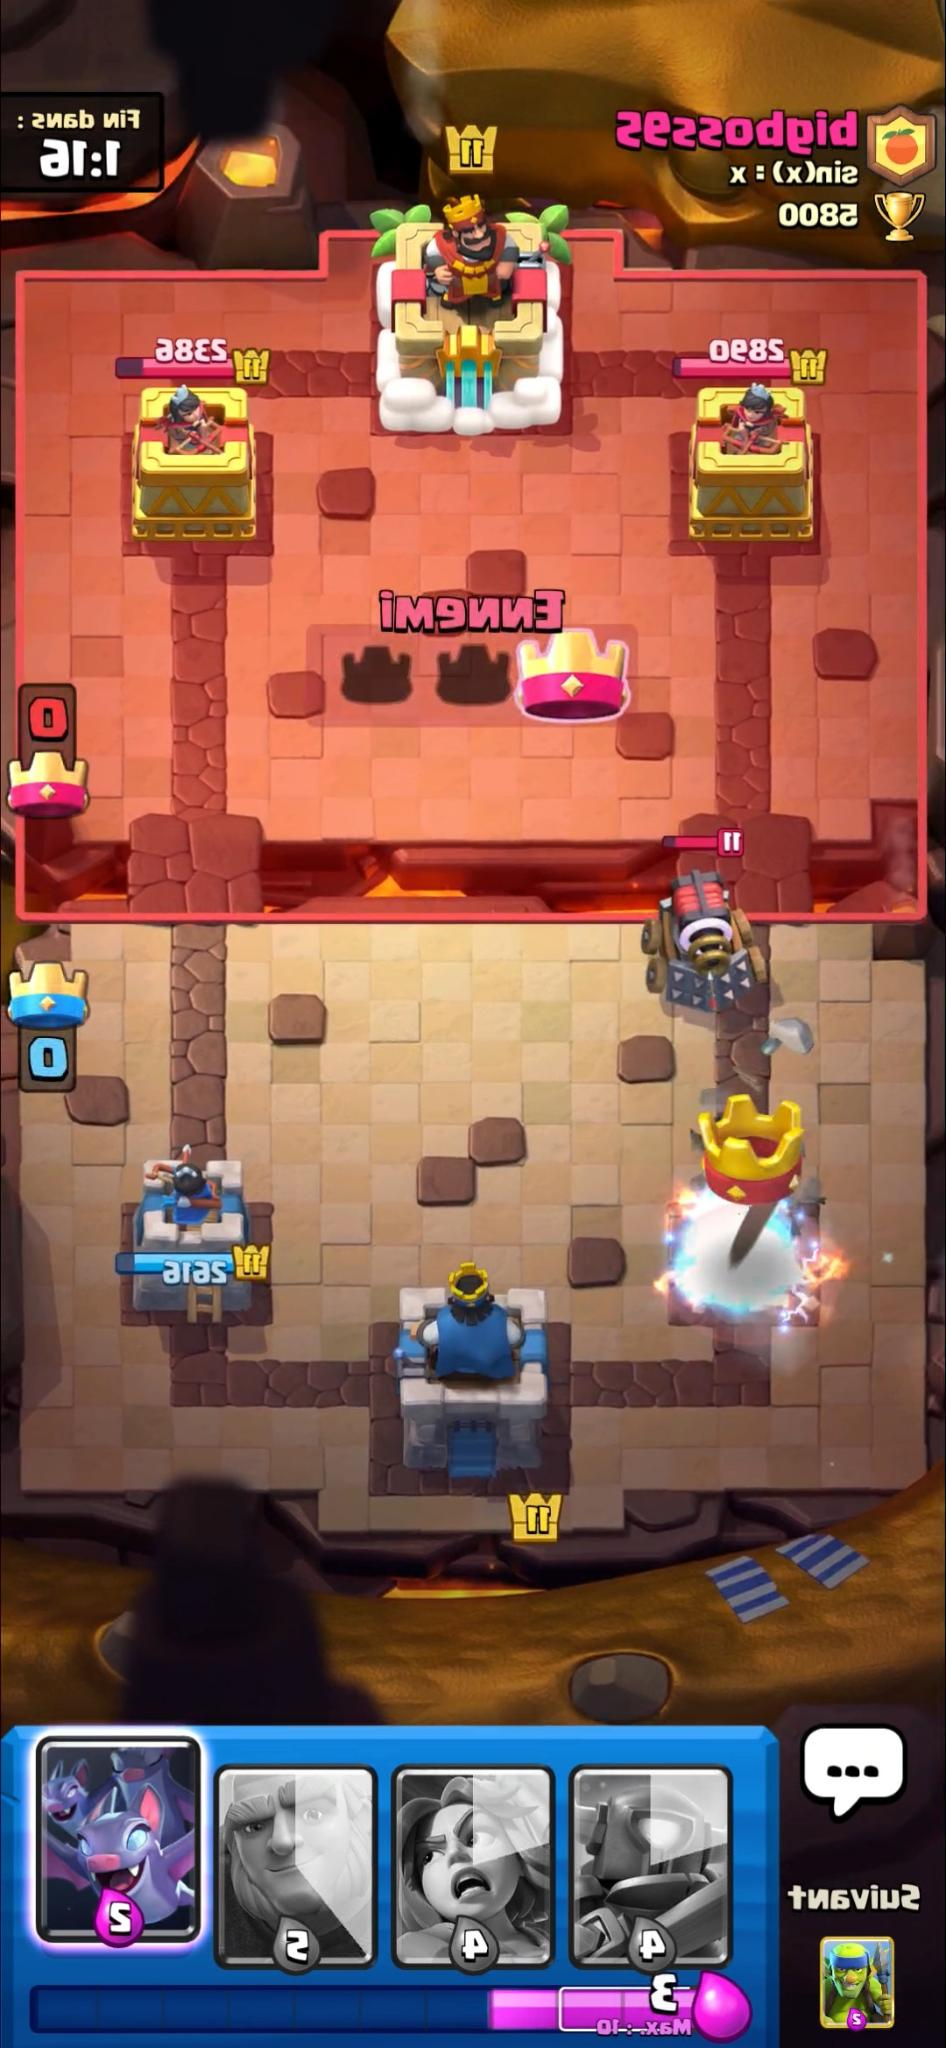zappy: (643, 879, 764, 1012)
